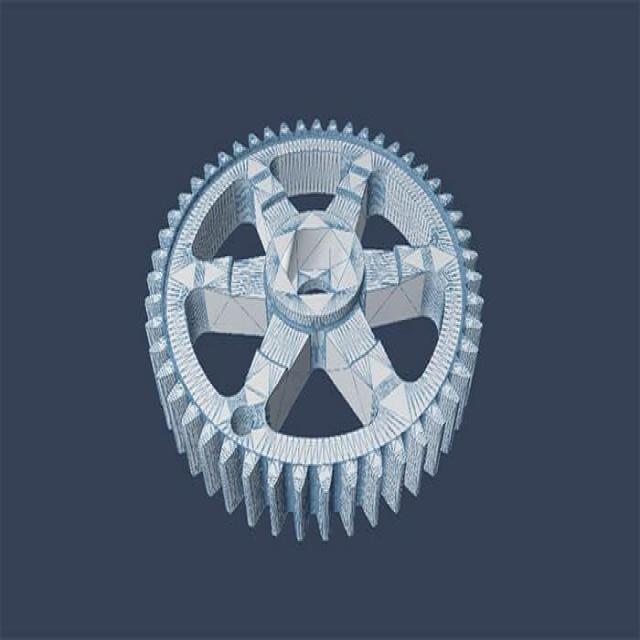Without deffect: (140, 100, 488, 560)
